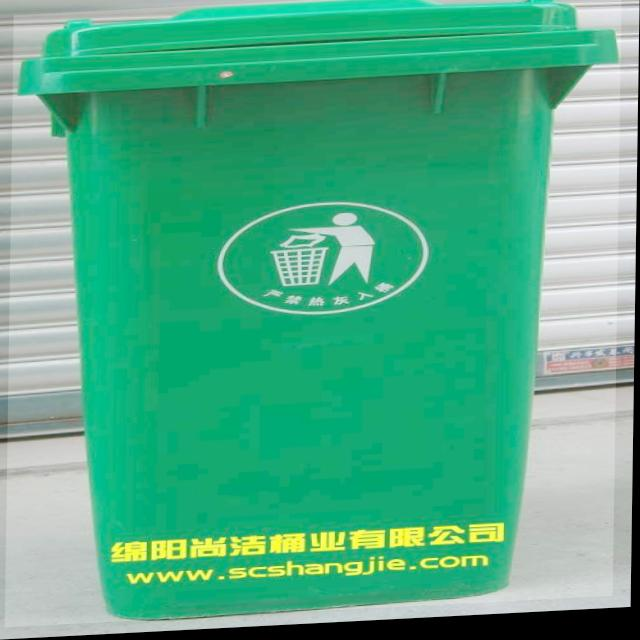garbage_bin: (7, 0, 622, 628)
